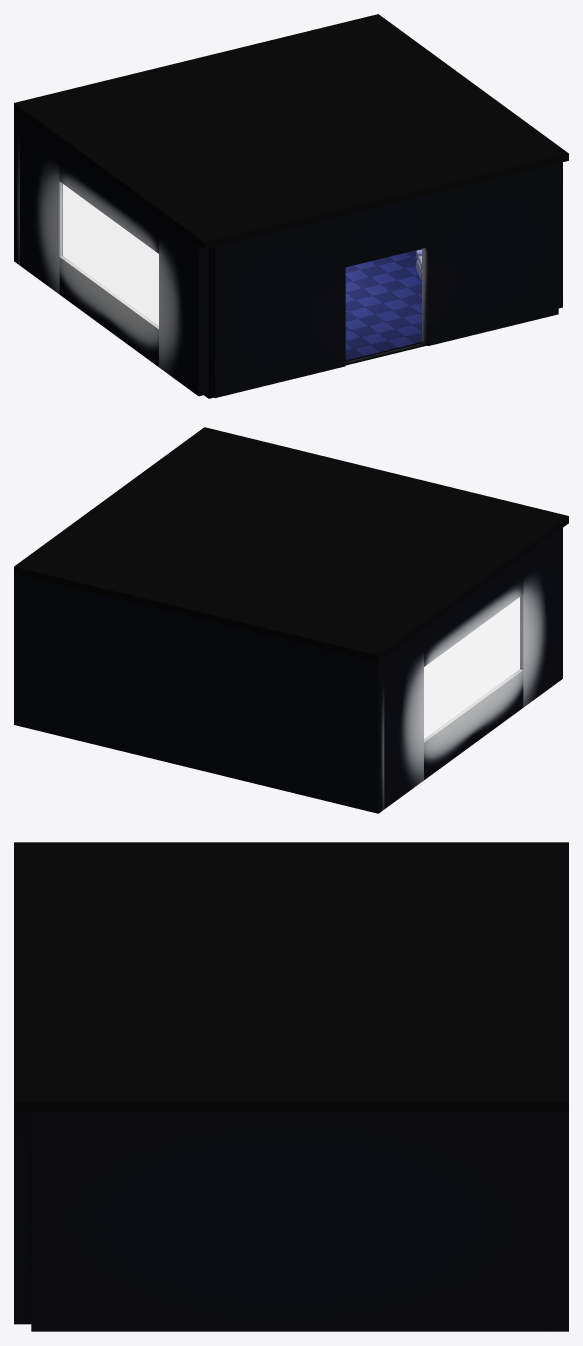
File: room_planet.glb
3 renders of one model, top to bottom at view 1: azimuth 30°, elevation 25°; view 2: azimuth 150°, elevation 25°; view 3: azimuth 270°, elevation 25°, orthographic. The views are drawn at different scales.
Visible parts, largest first — view 1: baked_ceiling, baked_walls, baked_floor, window_glass; view 2: baked_walls, baked_ceiling, window_glass; view 3: baked_ceiling, baked_walls.
Part boxes in pixels (box(x1,y1,x2,y2)): baked_ceiling: box(14, 14, 568, 249); baked_walls: box(14, 110, 562, 397); baked_floor: box(204, 249, 426, 398); window_glass: box(63, 184, 158, 325); baked_walls: box(14, 528, 562, 813); baked_ceiling: box(14, 427, 568, 662); window_glass: box(424, 597, 519, 738); baked_ceiling: box(14, 842, 568, 1111); baked_walls: box(14, 1111, 568, 1331).
Bounding box in the file's own units: 10.6 × 4.54 × 9.6.
Materials: 6 (4 with a texture image).
